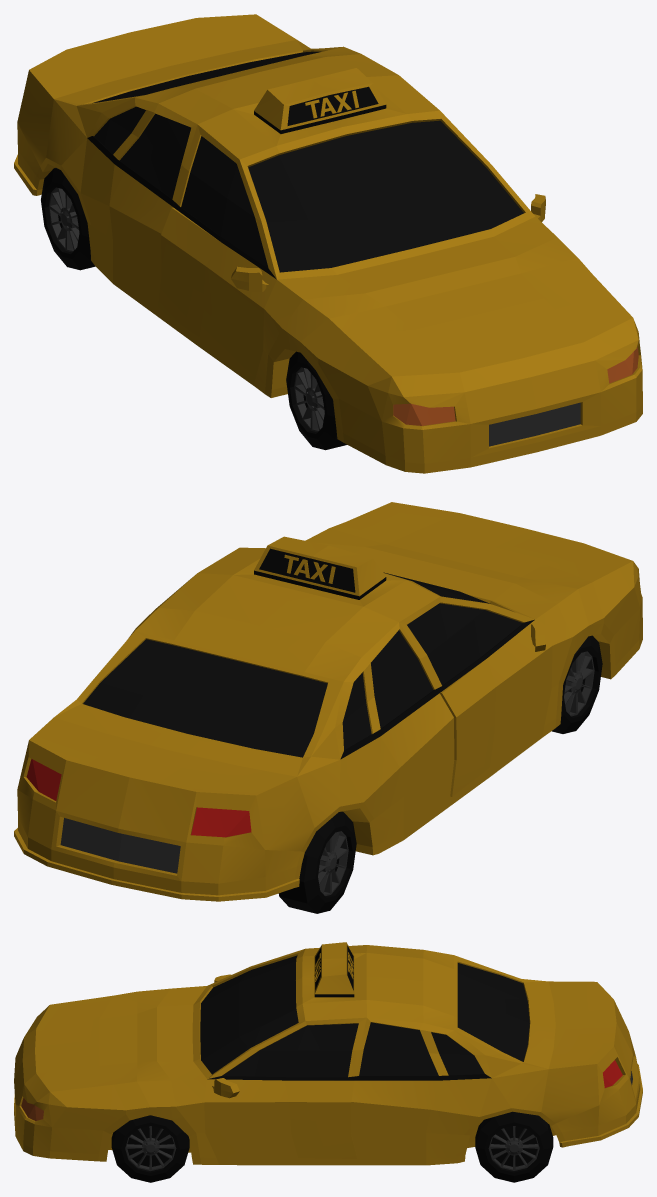
Rendered from taxiCar.obj.
3 views of the same model, one above another, from view 1: azimuth 30°, elevation 25°; view 2: azimuth 150°, elevation 25°; view 3: azimuth 270°, elevation 25° (orthographic). The views are drawn at different scales.
Visible parts, largest first — view 1: Taxi_Cube.009, Taxi_BackWheels_Cube.010, Taxi_FrontRightWheel_Cube.014; view 2: Taxi_Cube.009, Taxi_BackWheels_Cube.010, Taxi_FrontRightWheel_Cube.014; view 3: Taxi_Cube.009, Taxi_BackWheels_Cube.010, Taxi_FrontLeftWheel_Cube.013.
Part boxes in pixels (x1,y1,x2,y2): Taxi_Cube.009: [14, 14, 642, 473]; Taxi_BackWheels_Cube.010: [41, 168, 95, 270]; Taxi_FrontRightWheel_Cube.014: [286, 351, 346, 450]; Taxi_Cube.009: [14, 502, 642, 901]; Taxi_BackWheels_Cube.010: [278, 811, 356, 913]; Taxi_FrontRightWheel_Cube.014: [552, 635, 602, 733]; Taxi_Cube.009: [14, 942, 642, 1165]; Taxi_BackWheels_Cube.010: [475, 1111, 553, 1182]; Taxi_FrontLeftWheel_Cube.013: [111, 1115, 189, 1182].
Size of the model in its own units: 1.81 by 1.31 by 4.22.
